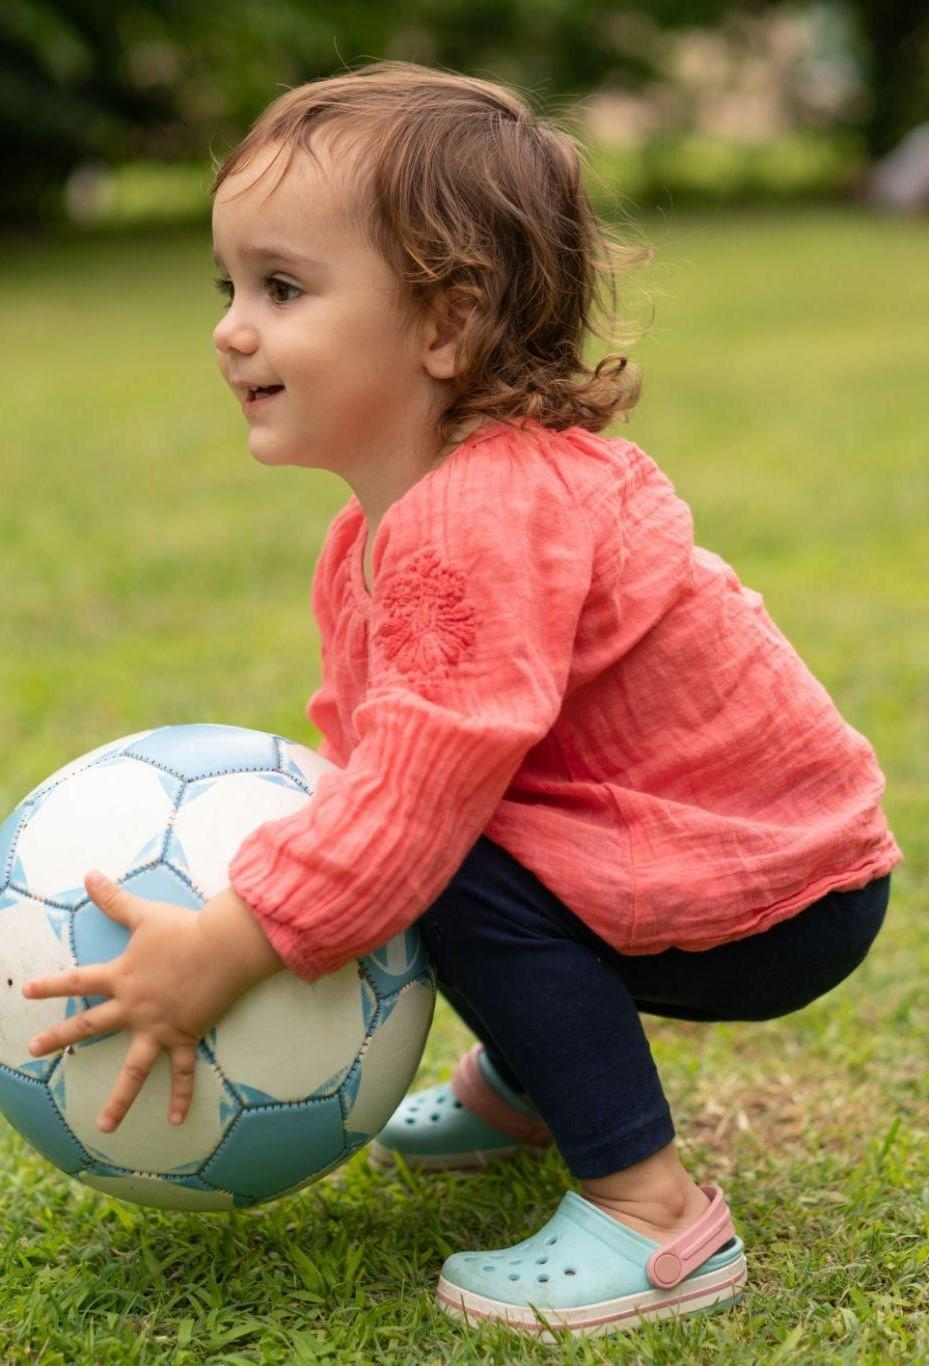Healthy: (151, 91, 492, 482)
